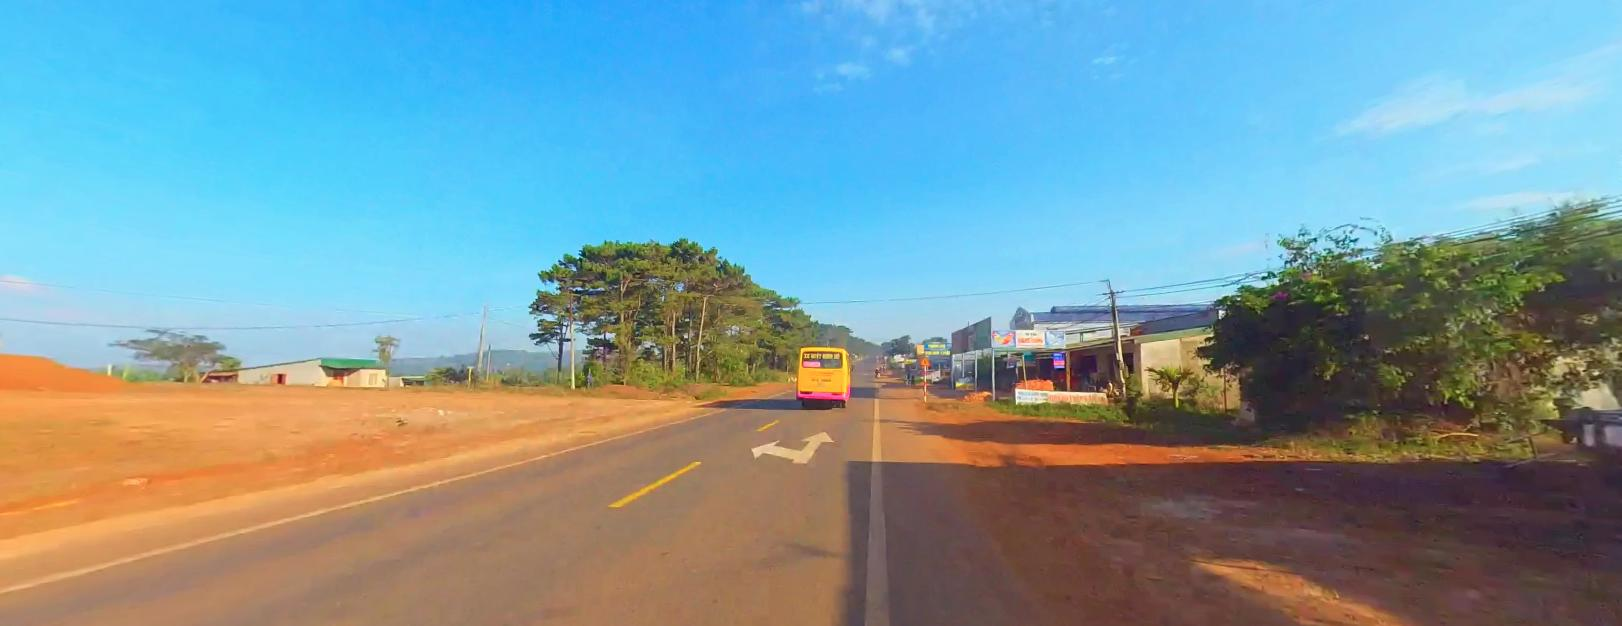Nguy hiem: (919, 354, 932, 365), (919, 355, 929, 364)
